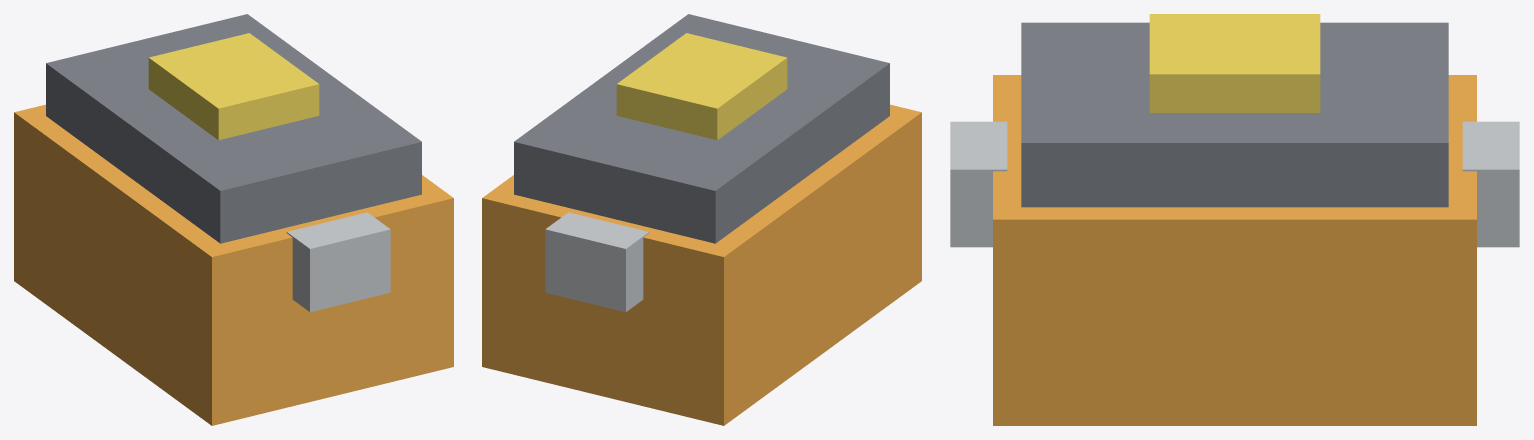
The model's file is battery-pack.glb.
The picture shows the model from 3 angles, left to right: view 1: azimuth 30°, elevation 25°; view 2: azimuth 150°, elevation 25°; view 3: azimuth 270°, elevation 25°; orthographic projection. The views are drawn at different scales.
Parts seen in each view (by area): view 1: battery-pack; view 2: battery-pack; view 3: battery-pack.
Boxes of the visible parts, x1,y1,x2,y2 form: battery-pack: [14, 14, 453, 425]; battery-pack: [482, 14, 921, 425]; battery-pack: [950, 14, 1519, 425].
Bounding box in the file's own units: 0.24 × 0.24 × 0.4.
